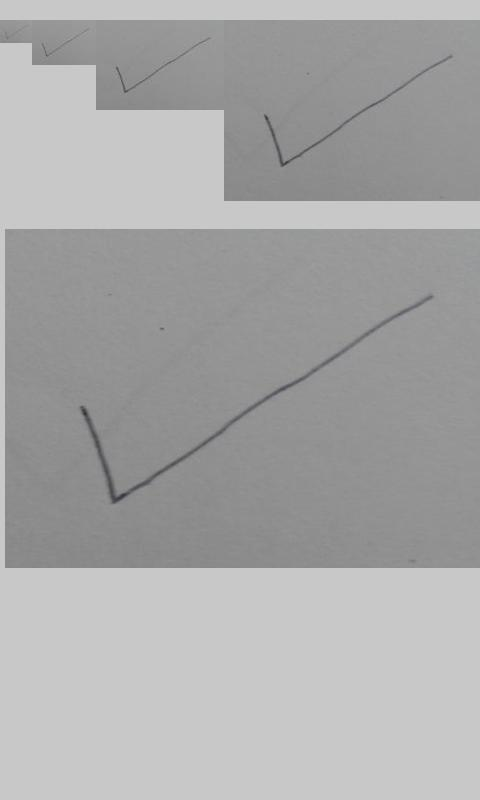check_box: (80, 297, 431, 506), (264, 54, 453, 166), (116, 38, 208, 93), (41, 30, 86, 58), (5, 26, 26, 40)
